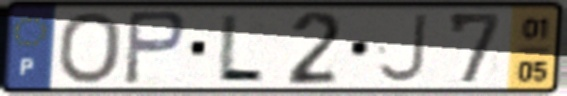2: (284, 9, 344, 88)
7: (445, 11, 506, 86)
J: (374, 11, 430, 86)
L: (212, 12, 268, 85)
O: (55, 10, 126, 87)
P: (120, 8, 189, 88)
